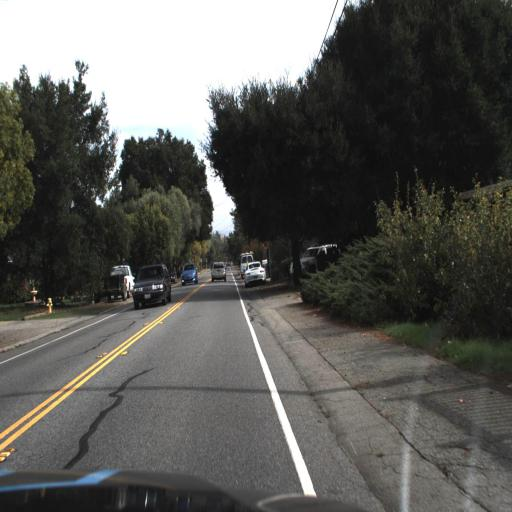car: (289, 241, 341, 284), (129, 259, 174, 307), (239, 259, 268, 291), (107, 264, 133, 298), (242, 257, 267, 289), (177, 259, 199, 288), (179, 260, 200, 288), (209, 258, 228, 284)
